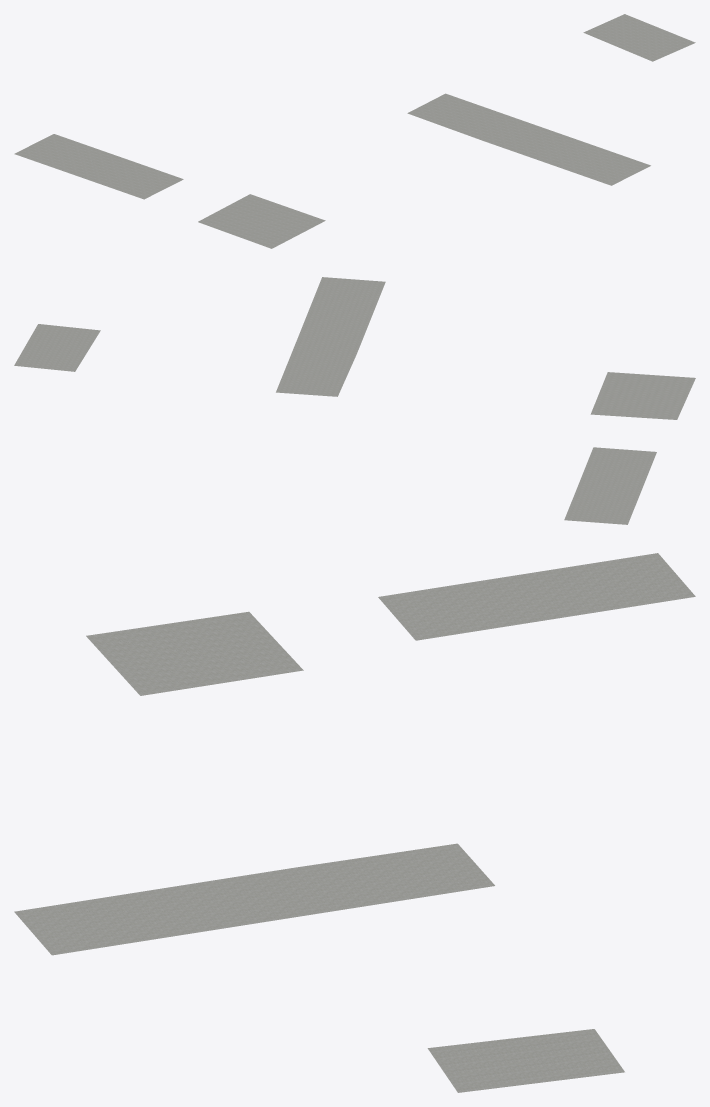
File: street_stone_B.FBX
3 views of the same model, one above another, from view 1: azimuth 30°, elevation 25°; view 2: azimuth 150°, elevation 25°; view 3: azimuth 270°, elevation 25° (orthographic). The views are drawn at different scales.
Visible parts, largest first — view 1: street_stone_B; view 2: street_stone_B; view 3: street_stone_B.
Part boxes in pixels (box(x1,y1,x2,y2)): street_stone_B: box(14, 14, 695, 248); street_stone_B: box(14, 277, 695, 524); street_stone_B: box(14, 553, 695, 1092).
Size of the model in its own units: 14492 by 4.74e-13 by 7735.
1 material, 1 textured.
